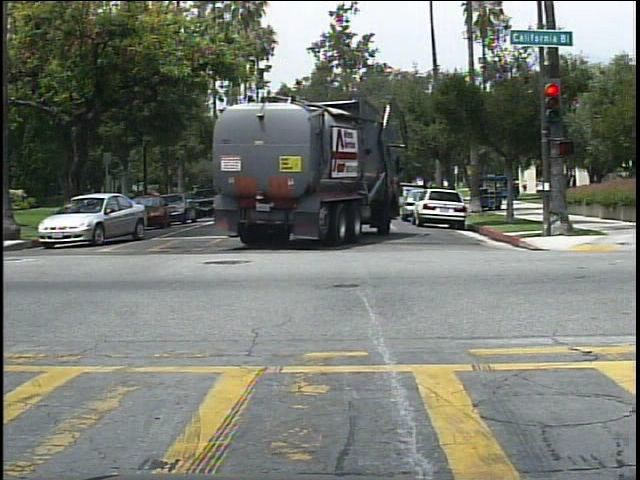person: (566, 169, 584, 199), (519, 175, 532, 195)
